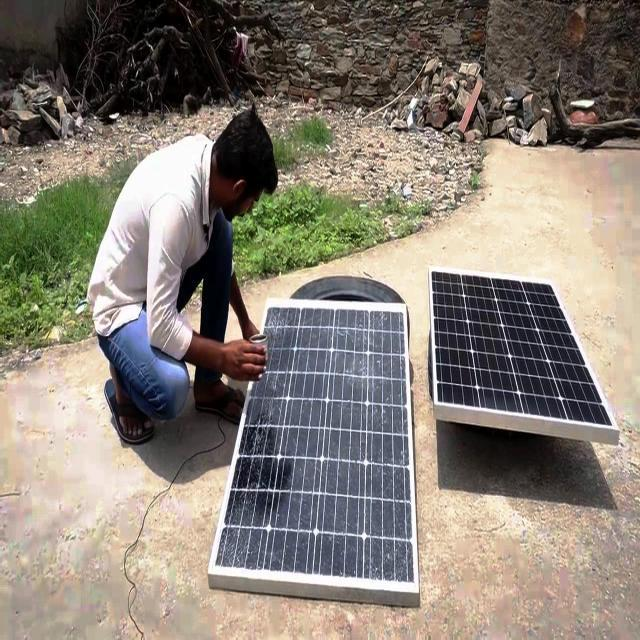faulty: (210, 300, 418, 586)
no faulty: (430, 267, 614, 441)
